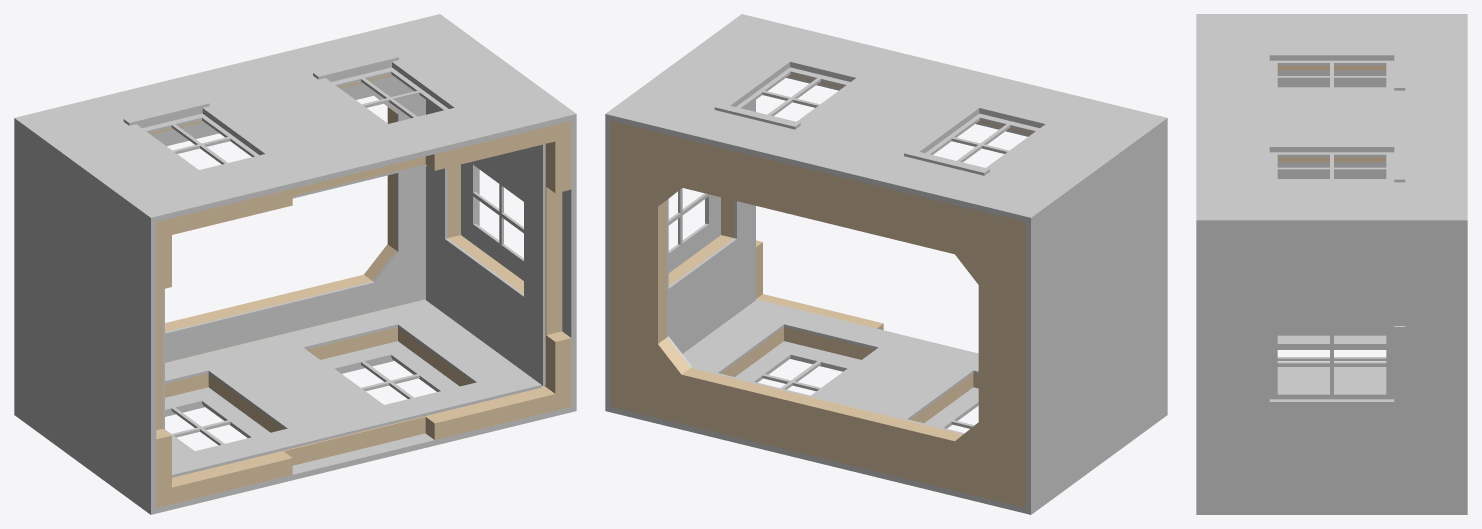
3 renders of one model, left to right at view 1: azimuth 30°, elevation 25°; view 2: azimuth 150°, elevation 25°; view 3: azimuth 270°, elevation 25°, orthographic.
Parts seen in each view (by area): view 1: house_c1_front_wall_p1_outside_wall_part, house_c4_left_wall_p1_outside_wall_part, house_c2_back_wall_p2_inside_wall_part, house_c3_right_wall_p2_inside_wall_part, house_c0_floor_p1_inside_floor_part, house_c2_back_wall_p0_base_wall_part, house_c3_right_wall_p0_base_wall_part, house_c1_front_wall_p0_base_wall_part, house_c2_back_wall_p1_outside_wall_part, house_c3_right_wall_p1_outside_wall_part, house_c0_floor_p0_base_floor_part, house_c4_left_wall_p0_base_wall_part (+8 smaller); view 2: house_c0_floor_p0_base_floor_part, house_c1_front_wall_p1_outside_wall_part, house_c4_left_wall_p1_outside_wall_part, house_c2_back_wall_p2_inside_wall_part, house_c2_back_wall_p0_base_wall_part, house_c3_right_wall_p2_inside_wall_part, house_c1_front_wall_p0_base_wall_part, house_c3_right_wall_p0_base_wall_part, house_c2_back_wall_p1_outside_wall_part, house_c3_right_wall_p1_outside_wall_part, house_c2_back_wall_c1_window_p0_frame_part, house_c4_left_wall_p0_base_wall_part (+7 smaller); view 3: house_c3_right_wall_p1_outside_wall_part, house_c1_front_wall_p1_outside_wall_part, house_c3_right_wall_c0_window_p0_frame_part, house_c2_back_wall_p2_inside_wall_part, house_c4_left_wall_p2_inside_wall_part, house_c2_back_wall_c0_window_p0_frame_part, house_c1_front_wall_c1_window_p0_frame_part, house_c1_front_wall_c0_window_p0_frame_part, house_c1_front_wall_p0_base_wall_part, house_c3_right_wall_c0_window_p1_sill_part, house_c4_left_wall_p1_outside_wall_part, house_c1_front_wall_p2_inside_wall_part (+3 smaller).
Boxes of the visible parts, x1=… form: house_c1_front_wall_p1_outside_wall_part: x1=20, y1=15, x2=571, y2=221; house_c4_left_wall_p1_outside_wall_part: x1=14, y1=116, x2=156, y2=514; house_c2_back_wall_p2_inside_wall_part: x1=165, y1=299, x2=541, y2=477; house_c3_right_wall_p2_inside_wall_part: x1=426, y1=100, x2=545, y2=385; house_c0_floor_p1_inside_floor_part: x1=154, y1=78, x2=425, y2=362; house_c2_back_wall_p0_base_wall_part: x1=165, y1=327, x2=555, y2=504; house_c3_right_wall_p0_base_wall_part: x1=447, y1=121, x2=571, y2=410; house_c1_front_wall_p0_base_wall_part: x1=149, y1=74, x2=555, y2=234; house_c2_back_wall_p1_outside_wall_part: x1=156, y1=357, x2=571, y2=513; house_c3_right_wall_p1_outside_wall_part: x1=435, y1=14, x2=576, y2=412; house_c0_floor_p0_base_floor_part: x1=165, y1=95, x2=425, y2=362; house_c4_left_wall_p0_base_wall_part: x1=156, y1=218, x2=171, y2=507; house_c0_floor_p0_base_floor_part: x1=610, y1=141, x2=1025, y2=487; house_c1_front_wall_p1_outside_wall_part: x1=610, y1=15, x2=1161, y2=221; house_c4_left_wall_p1_outside_wall_part: x1=1025, y1=116, x2=1167, y2=514; house_c2_back_wall_p2_inside_wall_part: x1=682, y1=299, x2=978, y2=419; house_c2_back_wall_p0_base_wall_part: x1=626, y1=294, x2=1009, y2=504; house_c3_right_wall_p2_inside_wall_part: x1=668, y1=100, x2=755, y2=353; house_c1_front_wall_p0_base_wall_part: x1=626, y1=74, x2=1032, y2=234; house_c3_right_wall_p0_base_wall_part: x1=610, y1=121, x2=762, y2=410; house_c2_back_wall_p1_outside_wall_part: x1=610, y1=357, x2=1025, y2=513; house_c3_right_wall_p1_outside_wall_part: x1=605, y1=14, x2=746, y2=412; house_c2_back_wall_c1_window_p0_frame_part: x1=735, y1=341, x2=860, y2=395; house_c4_left_wall_p0_base_wall_part: x1=1010, y1=218, x2=1025, y2=507; house_c3_right_wall_p1_outside_wall_part: x1=1196, y1=217, x2=1467, y2=514; house_c1_front_wall_p1_outside_wall_part: x1=1196, y1=16, x2=1467, y2=217; house_c3_right_wall_c0_window_p0_frame_part: x1=1269, y1=333, x2=1394, y2=399; house_c2_back_wall_p2_inside_wall_part: x1=1277, y1=367, x2=1386, y2=393; house_c4_left_wall_p2_inside_wall_part: x1=1277, y1=73, x2=1386, y2=178; house_c2_back_wall_c0_window_p0_frame_part: x1=1277, y1=335, x2=1386, y2=361; house_c1_front_wall_c1_window_p0_frame_part: x1=1269, y1=60, x2=1394, y2=87; house_c1_front_wall_c0_window_p0_frame_part: x1=1269, y1=152, x2=1394, y2=178; house_c1_front_wall_p0_base_wall_part: x1=1277, y1=65, x2=1386, y2=161; house_c3_right_wall_c0_window_p1_sill_part: x1=1394, y1=326, x2=1405, y2=410; house_c4_left_wall_p1_outside_wall_part: x1=1196, y1=14, x2=1467, y2=16; house_c1_front_wall_p2_inside_wall_part: x1=1277, y1=70, x2=1386, y2=164.
Bounding box in the file's own units: 90.56 × 61.12 × 50.
